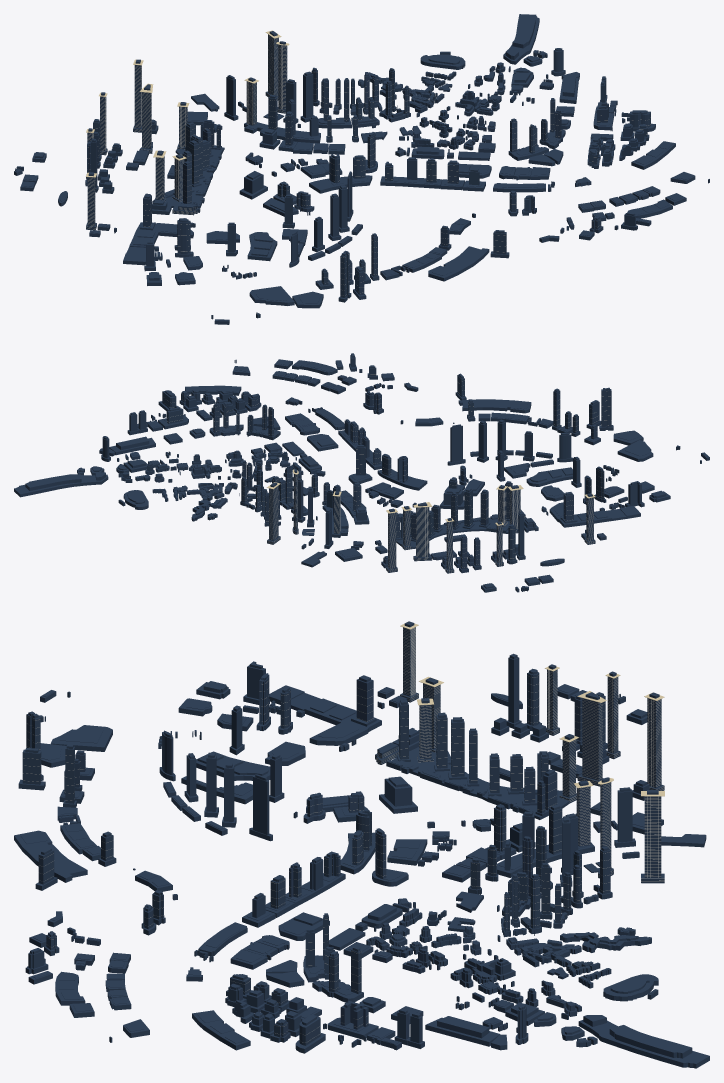
File: business-bay-all.glb
3 renders of one model, top to bottom at view 1: azimuth 30°, elevation 25°; view 2: azimuth 150°, elevation 25°; view 3: azimuth 270°, elevation 25°, orthographic. The views are drawn at different scales.
Visible parts, largest first — view 1: B_382096518_address-residences, B_1047612077_grande-signature-residences, B_532853121_unnamed, B_532853111_unnamed, B_1146969101_paramount-hotel-midtown, B_1047612078_opera-grand, B_47515674_فندق-العنوان-داون-تاون, B_203296254_millenium-tower, B_532828992_park-lane-tower, B_723560000_unnamed, B_723560004_unnamed, B_399867027_tiara-united-tower-2 (+4 smaller); view 2: B_382096518_address-residences, B_1146969101_paramount-hotel-midtown, B_1047612077_grande-signature-residences, B_203296254_millenium-tower, B_532853111_unnamed, B_1494150406_unnamed, B_1329019329_bay-avenue-mall, B_99570312_burj-views, B_532853121_unnamed, B_1075959488_mable-arch-tower, B_399873549_executive-tower-m, B_399867027_tiara-united-tower-2 (+4 smaller); view 3: B_382096518_address-residences, B_1146969101_paramount-hotel-midtown, B_1047612077_grande-signature-residences, B_1329019329_bay-avenue-mall, B_203296254_millenium-tower, B_99570312_burj-views, B_532853121_unnamed, B_1494150406_unnamed, B_126601134_the-palace-downtown-dubai, B_47515674_فندق-العنوان-داون-تاون, B_723560004_unnamed, B_399867027_tiara-united-tower-2 (+21 smaller).
Part boxes in pixels (x1,y1,x2,y2): B_382096518_address-residences: (508,14,539,57); B_1047612077_grande-signature-residences: (265,31,278,100); B_532853121_unnamed: (249,286,294,305); B_532853111_unnamed: (443,246,489,274); B_1146969101_paramount-hotel-midtown: (139,84,152,153); B_1047612078_opera-grand: (277,41,287,113); B_47515674_فندق-العنوان-داون-تاون: (420,54,465,69); B_203296254_millenium-tower: (133,59,141,132); B_532828992_park-lane-tower: (175,219,193,257); B_723560000_unnamed: (300,71,314,122); B_723560004_unnamed: (239,171,267,199); B_399867027_tiara-united-tower-2: (86,172,96,230); B_382096518_address-residences: (14,474,94,497); B_1146969101_paramount-hotel-midtown: (413,502,432,561); B_1047612077_grande-signature-residences: (267,482,280,544); B_203296254_millenium-tower: (386,508,397,572); B_532853111_unnamed: (458,399,513,411); B_1494150406_unnamed: (447,424,465,465); B_1329019329_bay-avenue-mall: (396,517,516,549); B_99570312_burj-views: (109,436,155,455); B_532853121_unnamed: (617,440,653,461); B_1075959488_mable-arch-tower: (599,387,613,430); B_399873549_executive-tower-m: (509,485,520,533); B_399867027_tiara-united-tower-2: (584,493,595,544); B_382096518_address-residences: (592,1023,709,1068); B_1146969101_paramount-hotel-midtown: (577,692,603,786); B_1047612077_grande-signature-residences: (641,790,664,883); B_1329019329_bay-avenue-mall: (386,747,576,819); B_203296254_millenium-tower: (647,692,664,790); B_99570312_burj-views: (425,1016,500,1046); B_532853121_unnamed: (50,725,112,751); B_1494150406_unnamed: (249,774,272,841); B_126601134_the-palace-downtown-dubai: (560,932,651,952); B_47515674_فندق-العنوان-داون-تاون: (603,974,658,1001); B_723560004_unnamed: (379,776,417,813); B_399867027_tiara-united-tower-2: (400,621,418,702).
Bounding box in the file's own units: 2443 × 288 × 1881.
